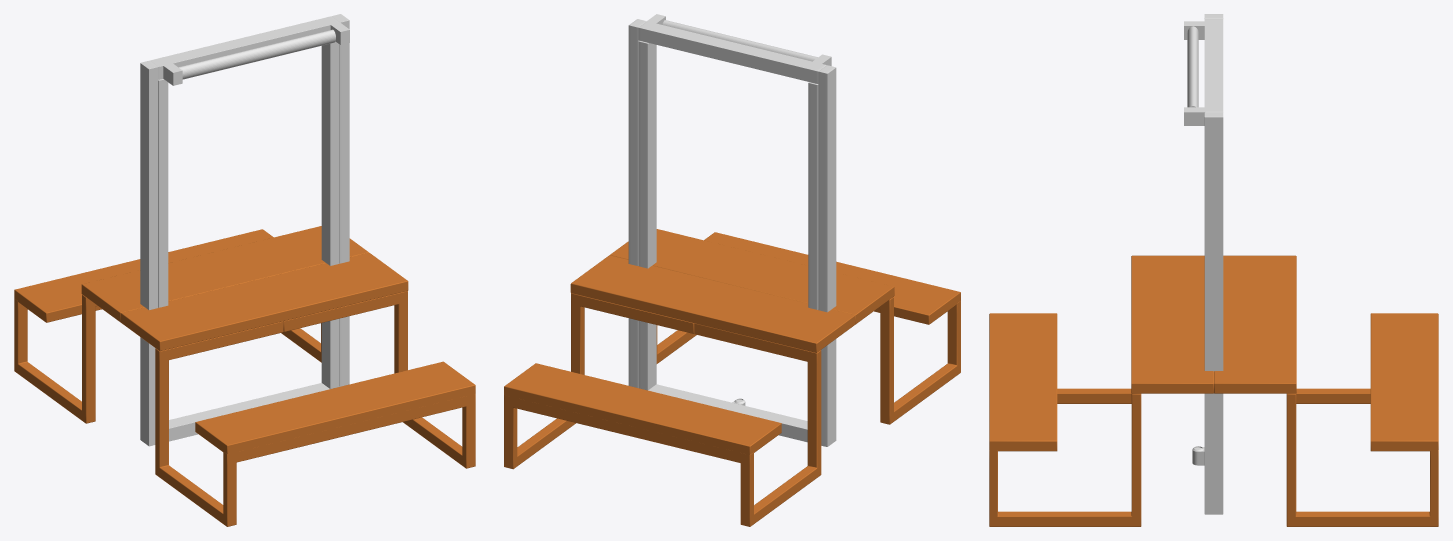
Rendered from Erik_Fonsteram.fbx.
3 renders of one model, left to right at view 1: azimuth 30°, elevation 25°; view 2: azimuth 150°, elevation 25°; view 3: azimuth 270°, elevation 25°, orthographic. The views are drawn at different scales.
Parts seen in each view (by area): view 1: Orang_Bord_Kopia, Cube; view 2: Orang_Bord_Kopia, Cube; view 3: Orang_Bord_Kopia, Cube.
Part boxes in pixels (x1,y1,x2,y2): Orang_Bord_Kopia: (14, 226, 475, 526); Cube: (140, 14, 349, 446); Orang_Bord_Kopia: (504, 229, 960, 526); Cube: (628, 14, 836, 446); Orang_Bord_Kopia: (989, 255, 1438, 526); Cube: (1184, 14, 1223, 514).
Bounding box in the file's own units: 520 × 754 × 772.
